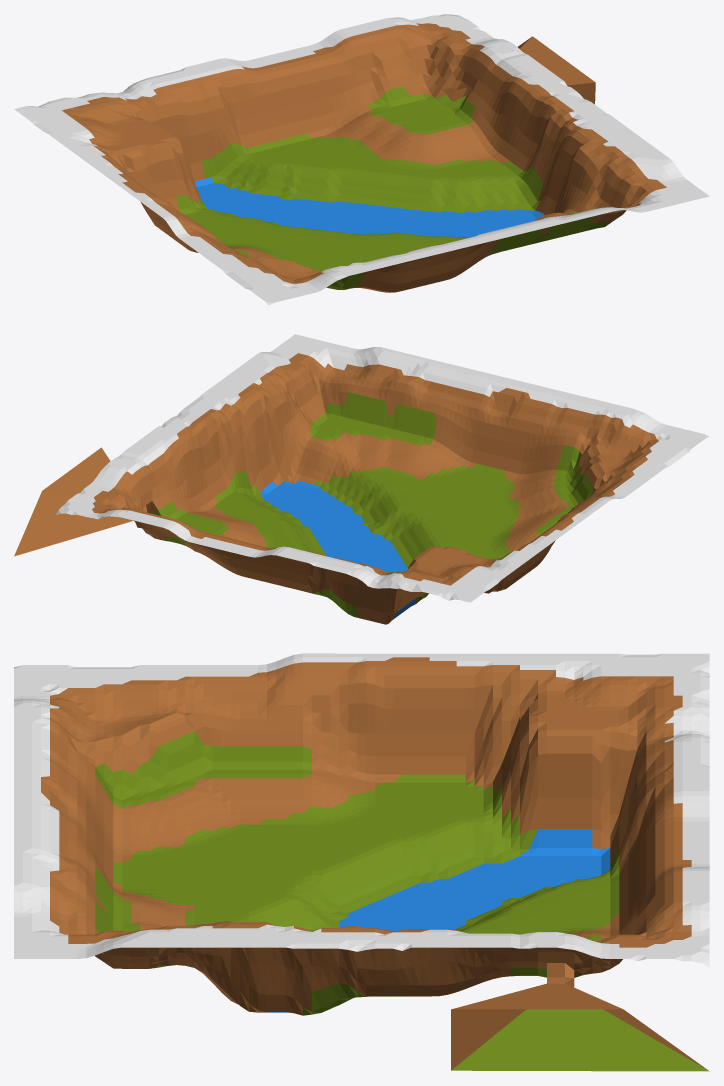
Rendered from Map.fbx.
The picture shows the model from 3 angles, top to bottom: view 1: azimuth 30°, elevation 25°; view 2: azimuth 150°, elevation 25°; view 3: azimuth 270°, elevation 25°; orthographic projection. The views are drawn at different scales.
Parts seen in each view (by area): view 1: Terrain; view 2: Terrain; view 3: Terrain.
Boxes of the visible parts, x1,y1,x2,y2 form: Terrain: (14, 14, 709, 305); Terrain: (14, 334, 709, 624); Terrain: (14, 653, 709, 1071).
Size of what is drawn, in the model's own units: 1104 by 182 by 1000.
